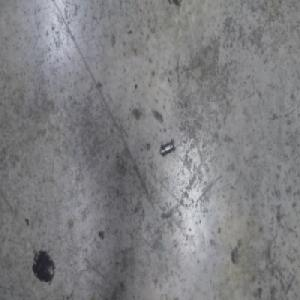Bolt: (160, 138, 175, 157)
